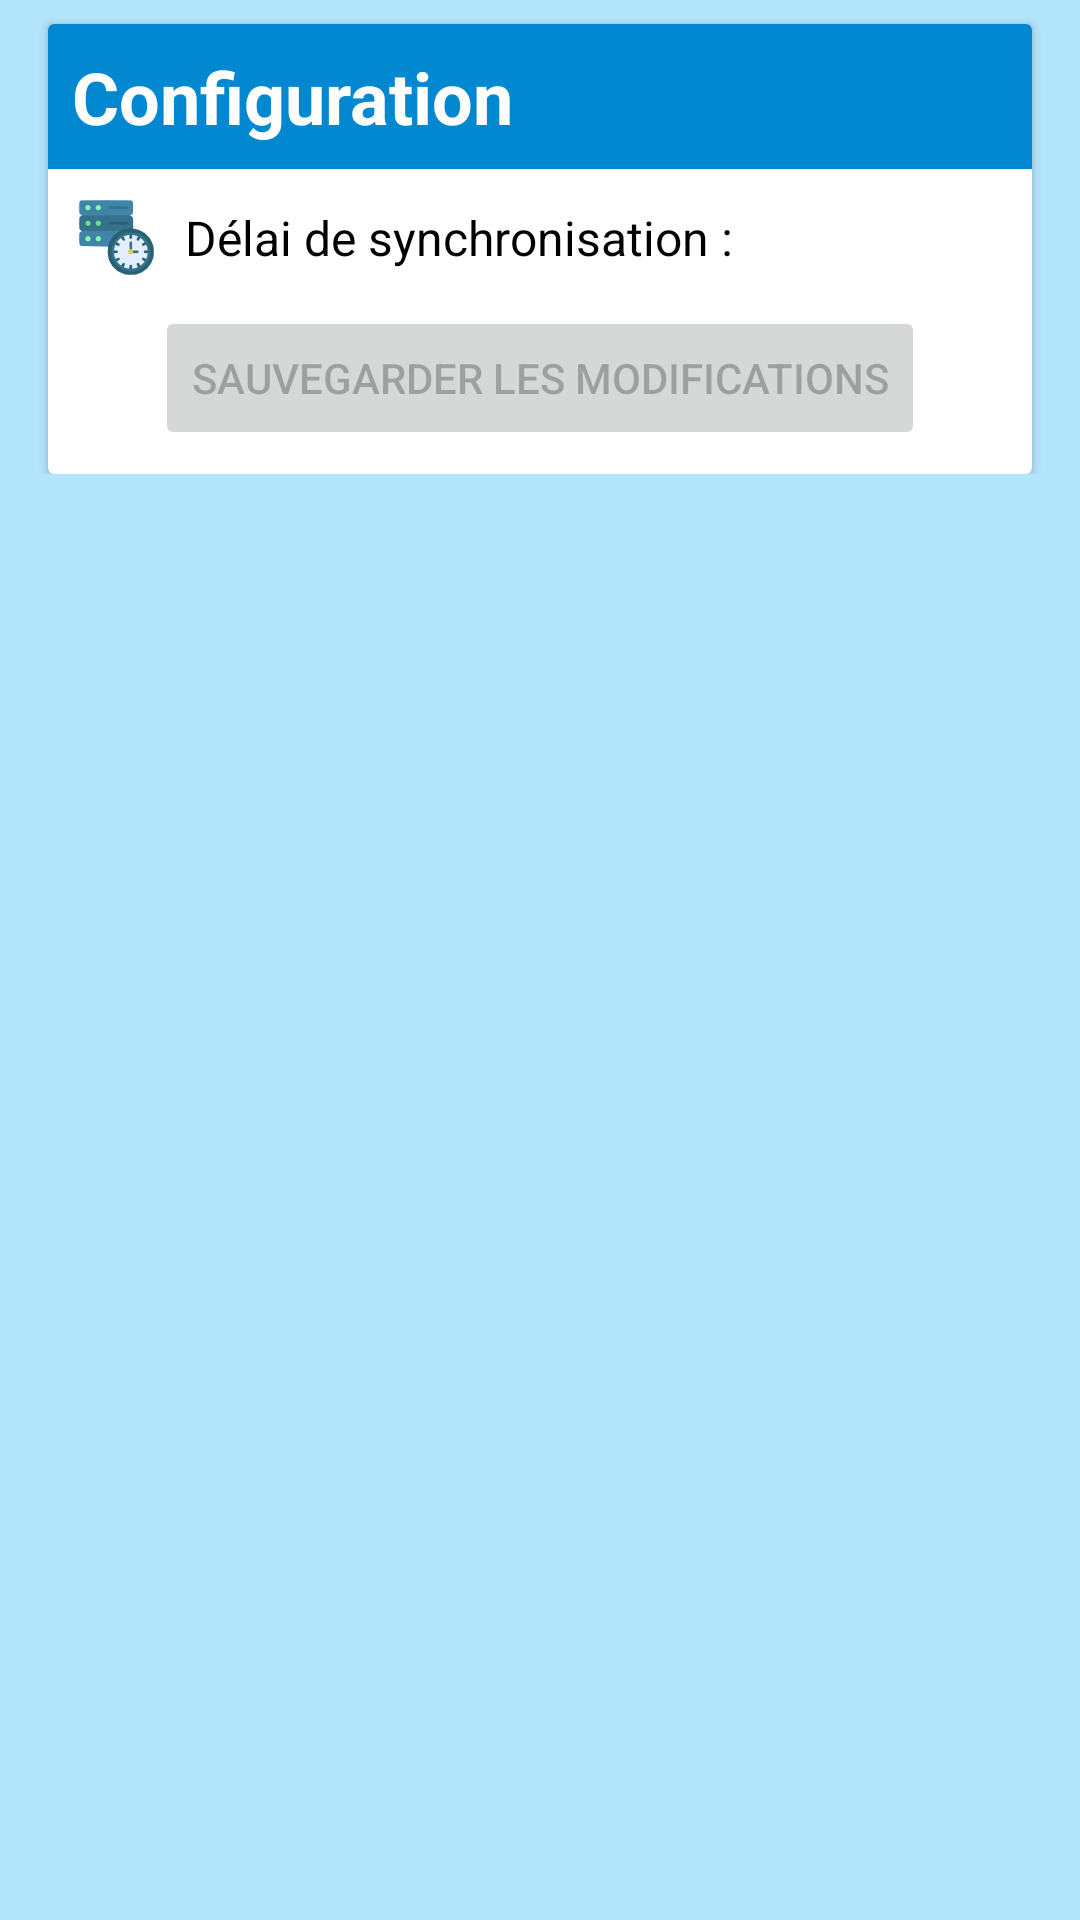

Named icons in this screenshot (1080*1920) and their bounding boxes, (x1, y1, x2, y2):
sync delay: (79, 200, 154, 275)
